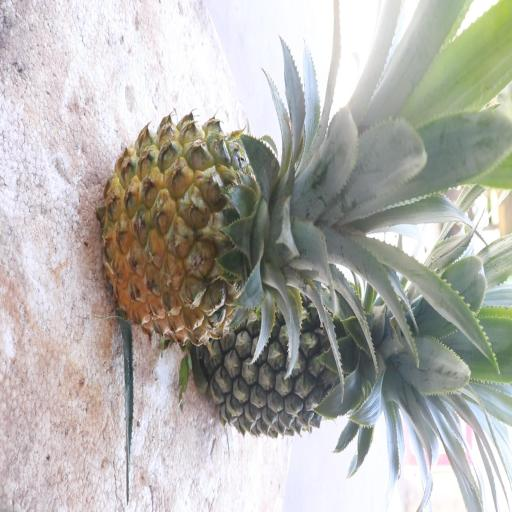Pineapple - v8 v1: (98, 104, 352, 352)
